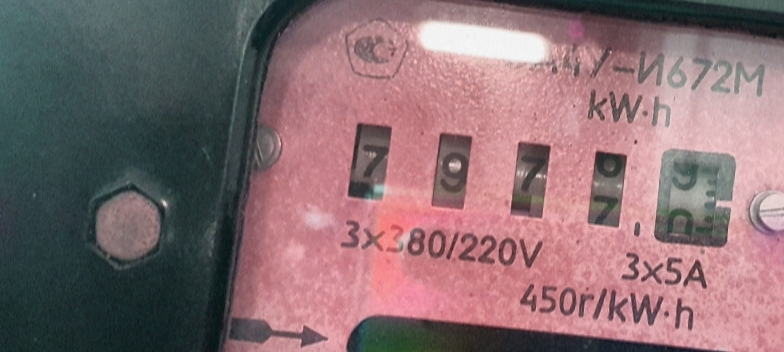0: (660, 201, 696, 242)
7: (512, 150, 547, 196), (354, 139, 388, 184), (586, 190, 619, 229)
9: (433, 147, 470, 195), (666, 154, 700, 192)
screen: (323, 97, 761, 272)
